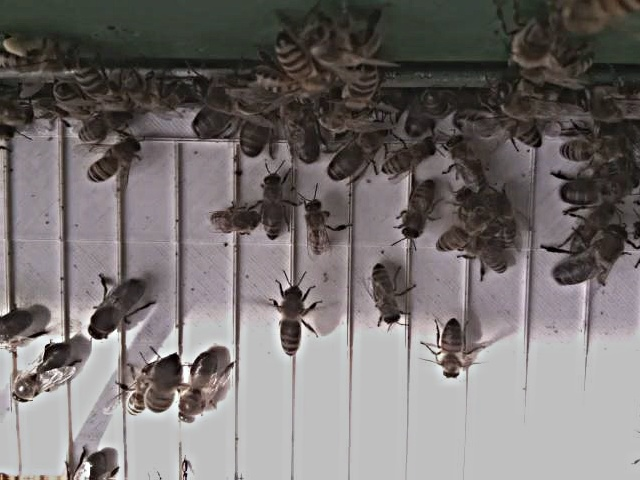Drone: (550, 223, 629, 290), (326, 118, 391, 184), (85, 278, 147, 345), (10, 342, 72, 407), (555, 165, 640, 212), (174, 350, 220, 429), (278, 98, 322, 169)
Worker: (443, 133, 489, 200), (82, 138, 142, 189), (398, 180, 437, 245), (380, 137, 438, 180), (431, 212, 486, 257), (275, 284, 306, 362), (258, 171, 289, 242), (368, 260, 399, 327), (435, 317, 466, 384), (301, 199, 330, 257), (207, 208, 258, 238)
